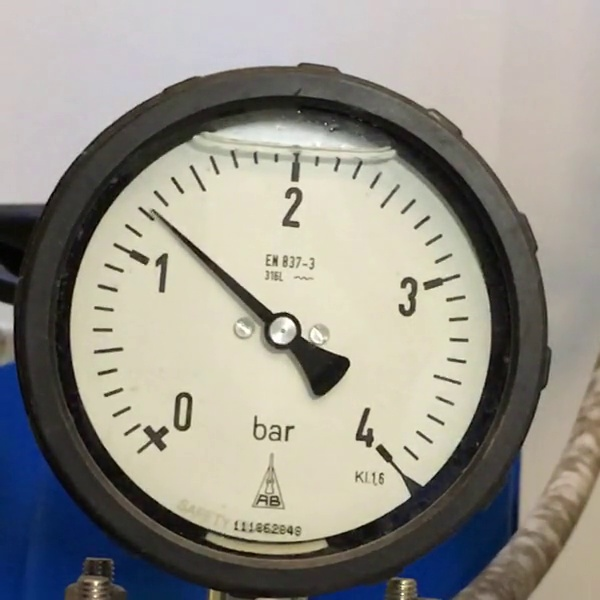base: (263, 311, 300, 348)
circle_plate: (64, 112, 496, 556)
maximum: (373, 443, 394, 462)
minimum: (142, 423, 169, 452)
number: (278, 183, 306, 230), (169, 389, 195, 435), (395, 272, 420, 318), (353, 405, 375, 449), (152, 250, 171, 295)
tip: (150, 206, 156, 214)
